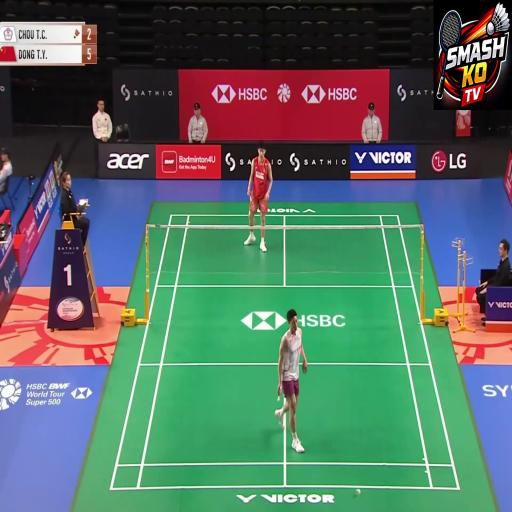player: (271, 298, 309, 469), (230, 117, 290, 223), (232, 123, 280, 237), (243, 139, 283, 272), (267, 114, 275, 272)
